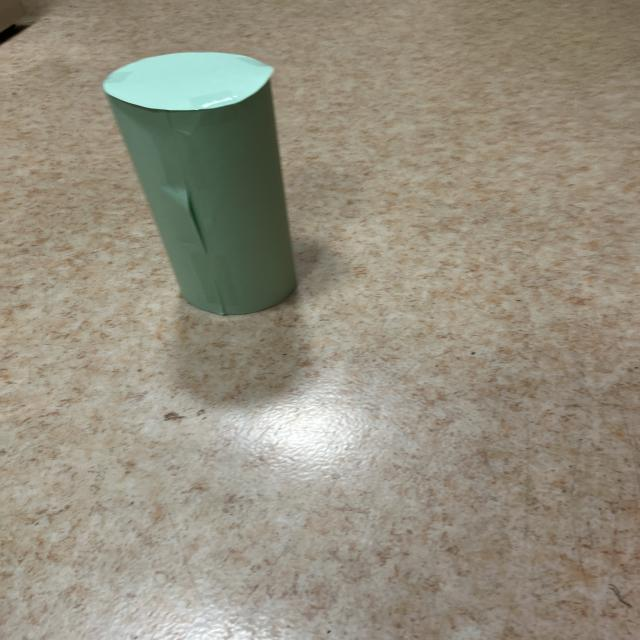meta: (103, 52, 296, 315)
